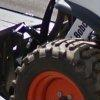Tractor: (15, 8, 100, 100)
